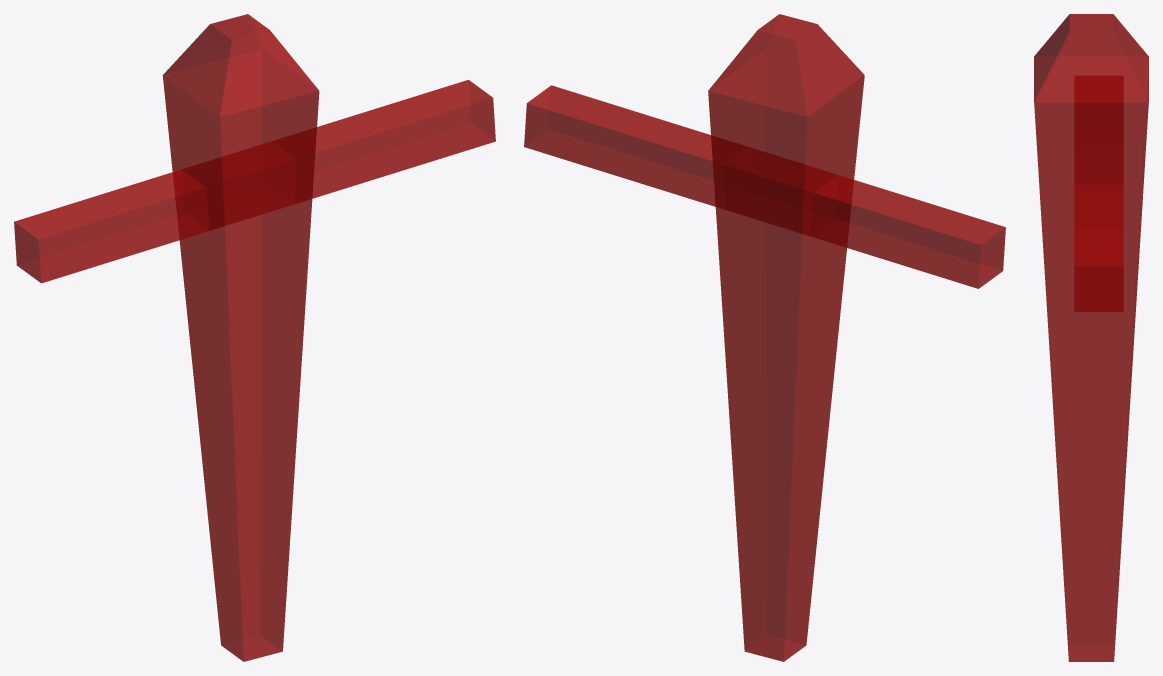
File: SM_Prop_ScareCrow_01_Collision.fbx
3 views of the same model, side by side, from view 1: azimuth 30°, elevation 25°; view 2: azimuth 150°, elevation 25°; view 3: azimuth 270°, elevation 25° (orthographic).
Visible parts, largest first — view 1: SM_Prop_ScareCrow_01_Collision; view 2: SM_Prop_ScareCrow_01_Collision; view 3: SM_Prop_ScareCrow_01_Collision.
Part boxes in pixels (x1=…): SM_Prop_ScareCrow_01_Collision: x1=14, y1=14, x2=495, y2=661; SM_Prop_ScareCrow_01_Collision: x1=524, y1=14, x2=1005, y2=661; SM_Prop_ScareCrow_01_Collision: x1=1034, y1=14, x2=1148, y2=661.
Size of the model in its own units: 291 by 380 by 63.19.
